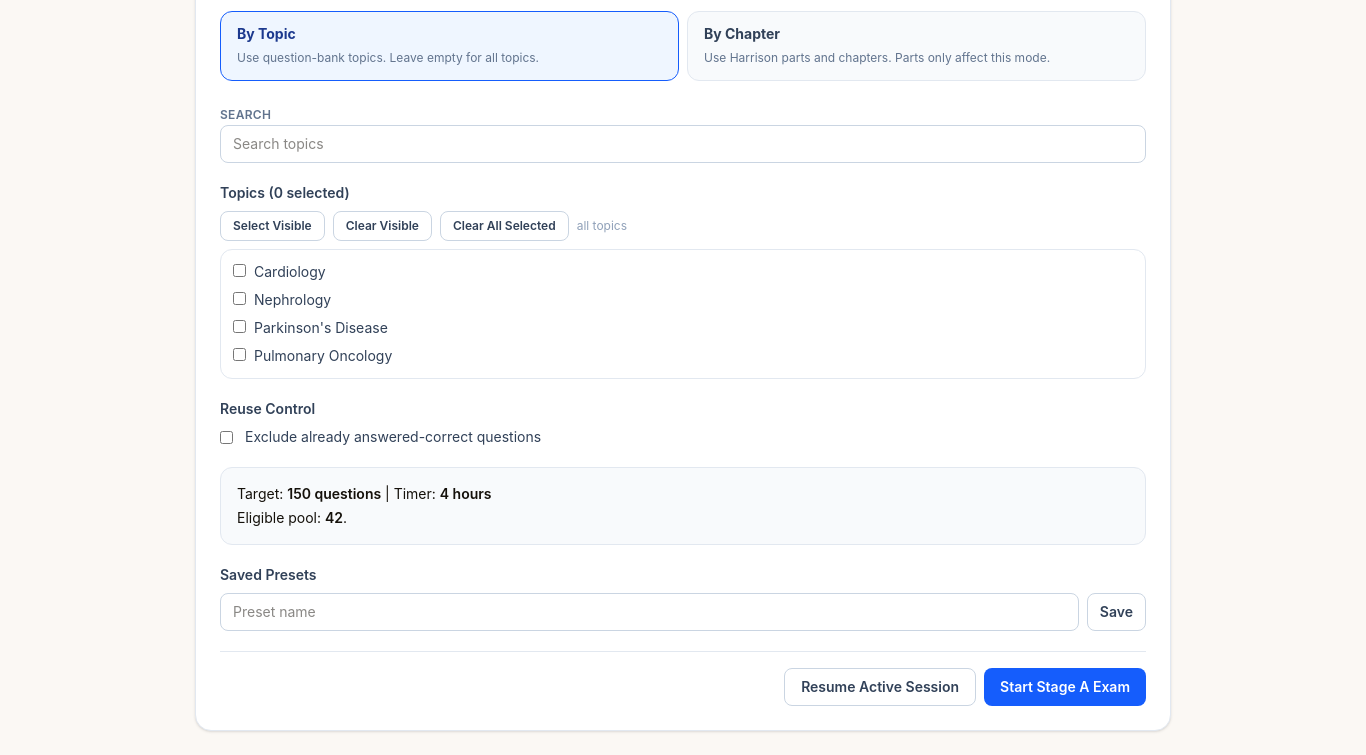
Test: ExamsPage › clicking Start Stage A Exam transitions to running phase with question visible
(page scrolled)
Click the button "Start Stage A Exam".
click(1065, 687)  # box 984,668 -> 1146,706
(page scrolled)
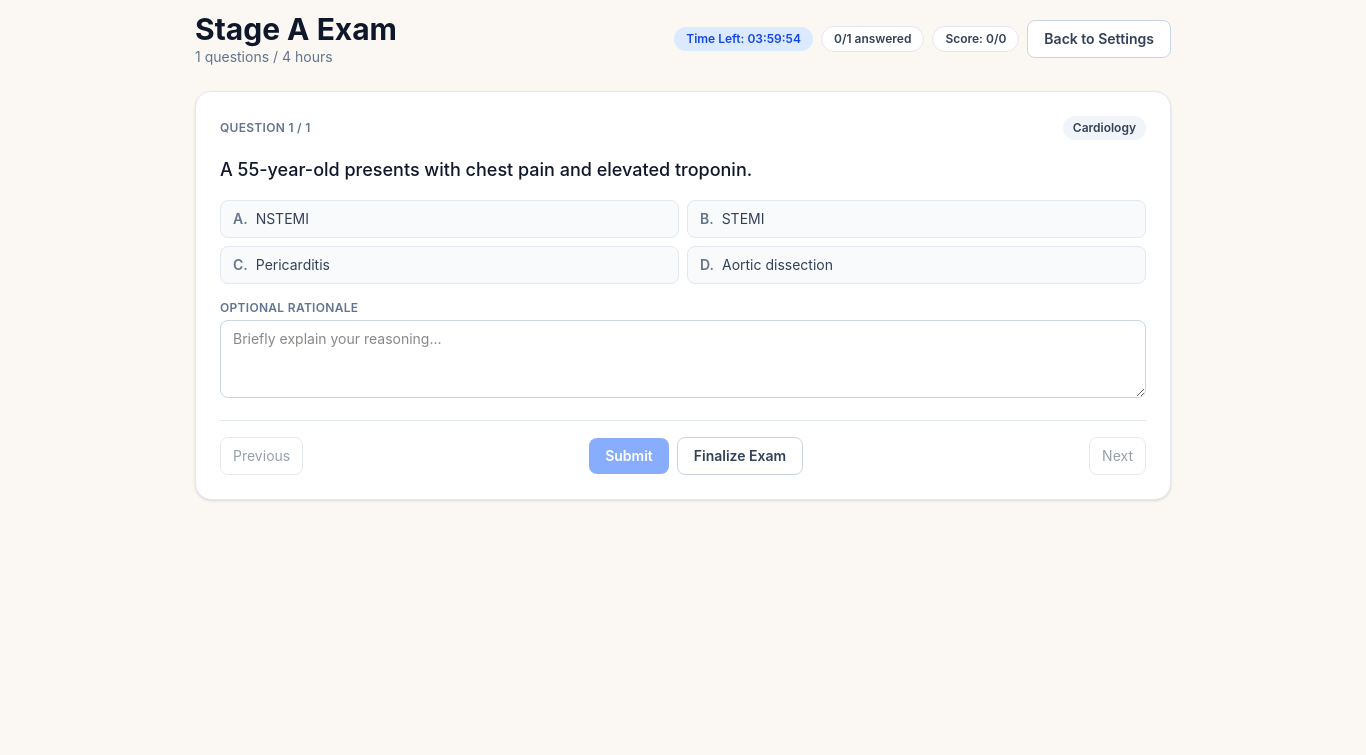
Now the text "A 55-year-old presents with chest pain and elevated troponin." is shown, box 220,159 -> 752,180
Now the heading "Stage A Exam" is shown, box 195,11 -> 397,47
